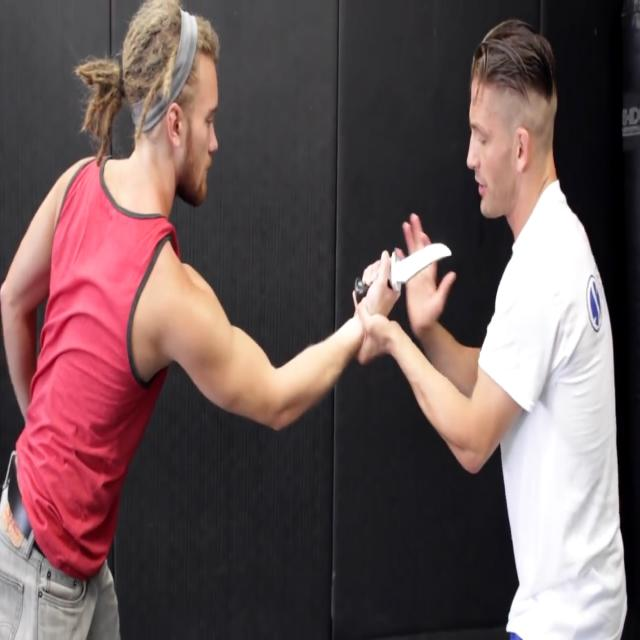knife: (389, 239, 455, 291)
